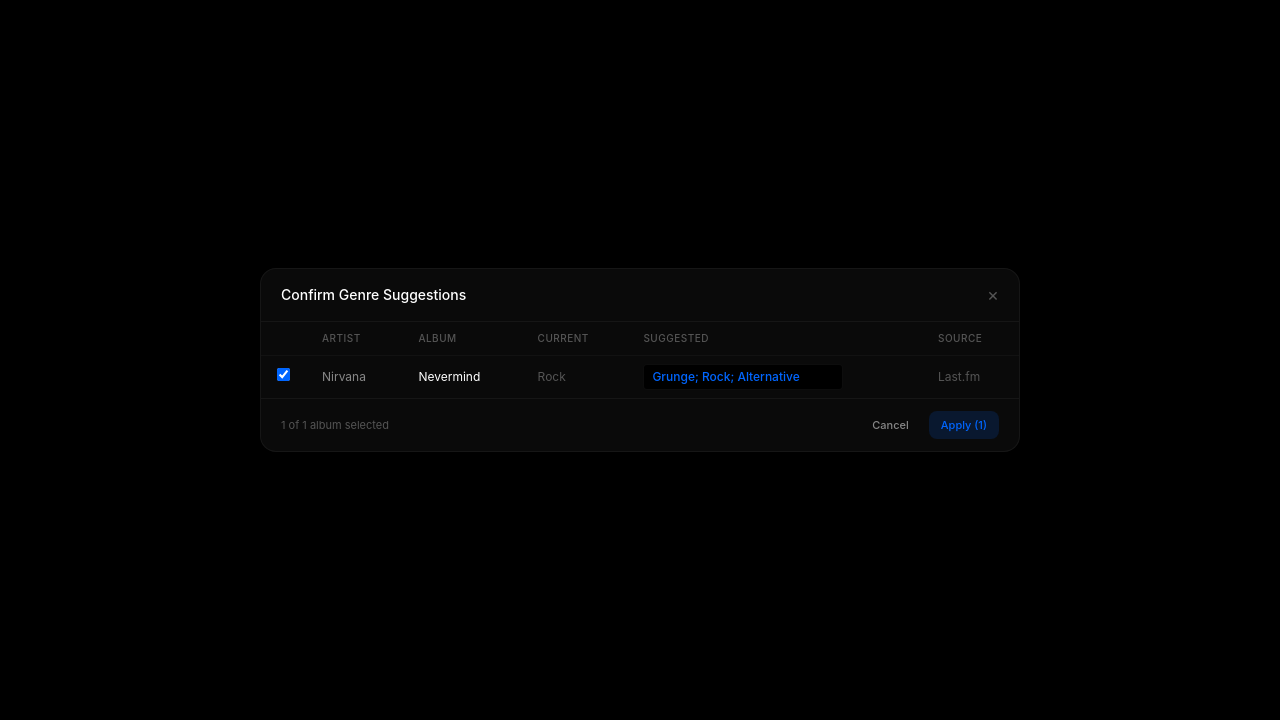
GenreLookupModal › disables Apply when nothing is selected
Step 1. Click the text "Nirvana" → click(354, 377), box x1=306 y1=355 x2=402 y2=398
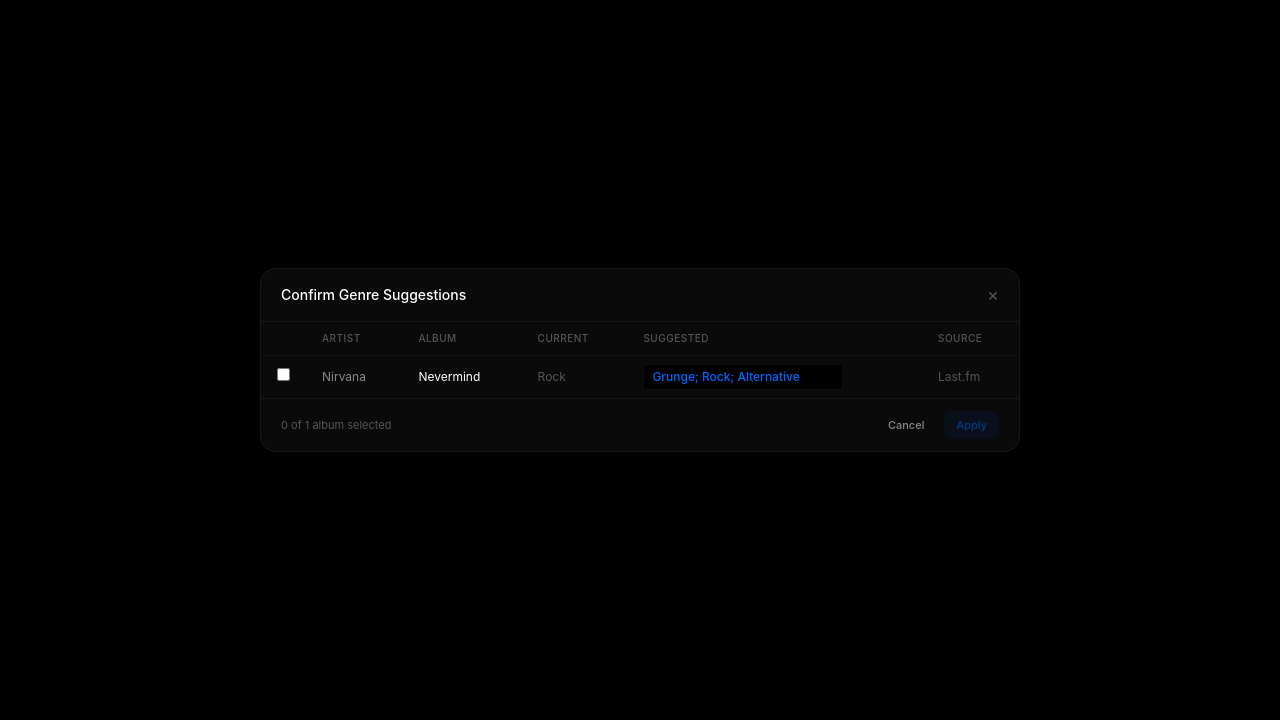
expect the button "Apply" is disabled: met, box x1=944 y1=411 x2=999 y2=439
